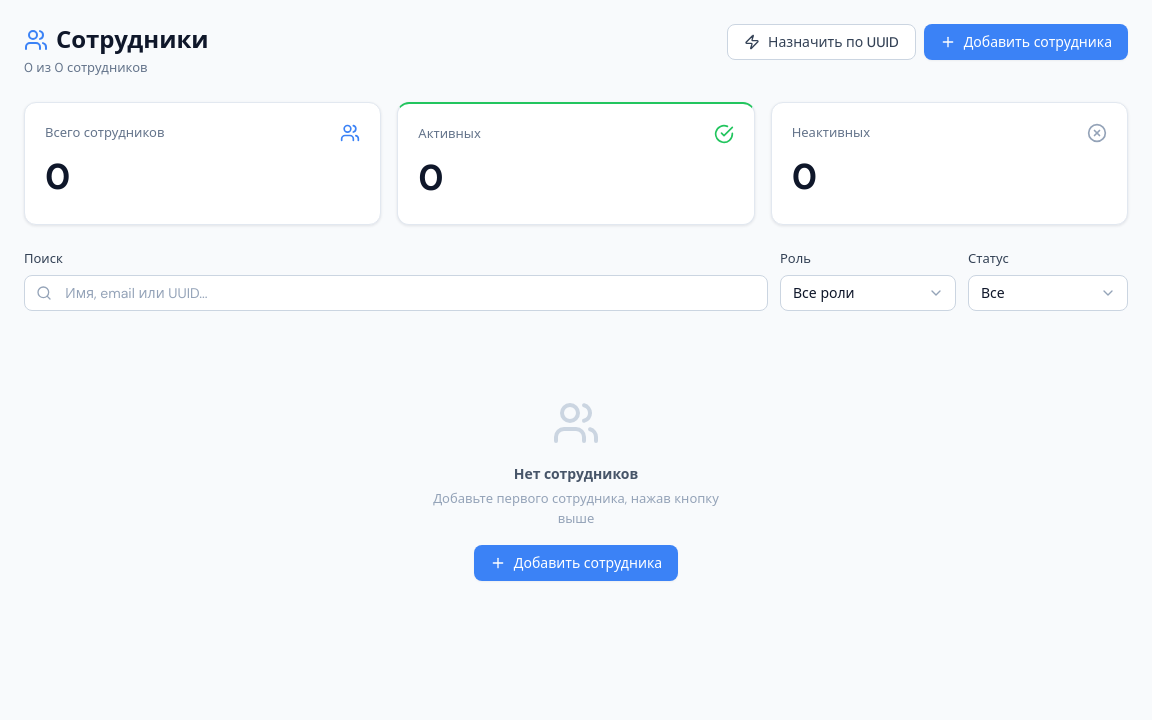
Scenario: EmployeesPage › closes add employee modal on cancel
This screenshot has width=1152, height=720.
Click the button "Добавить сотрудника" in the row of "Сотрудники": (1026,42) [924, 24, 1128, 60]
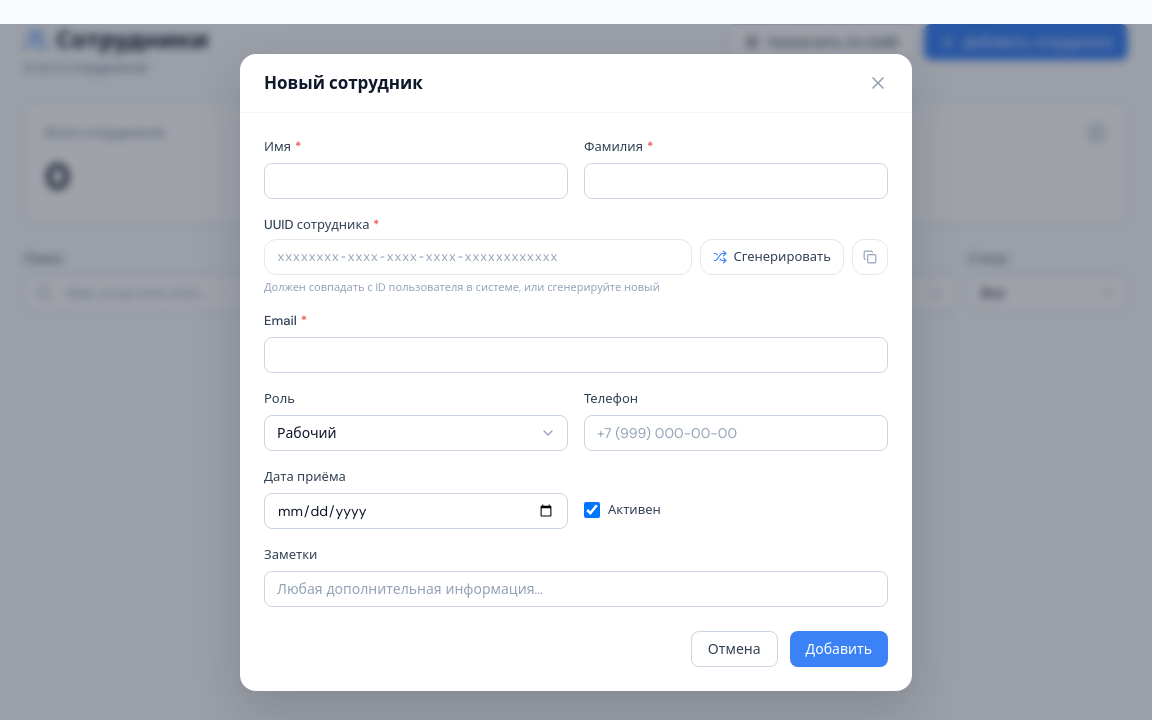
Now the heading "Новый сотрудник" is shown, box [264, 70, 423, 96]
Click the button "Отмена": (734,648) [691, 630, 778, 666]
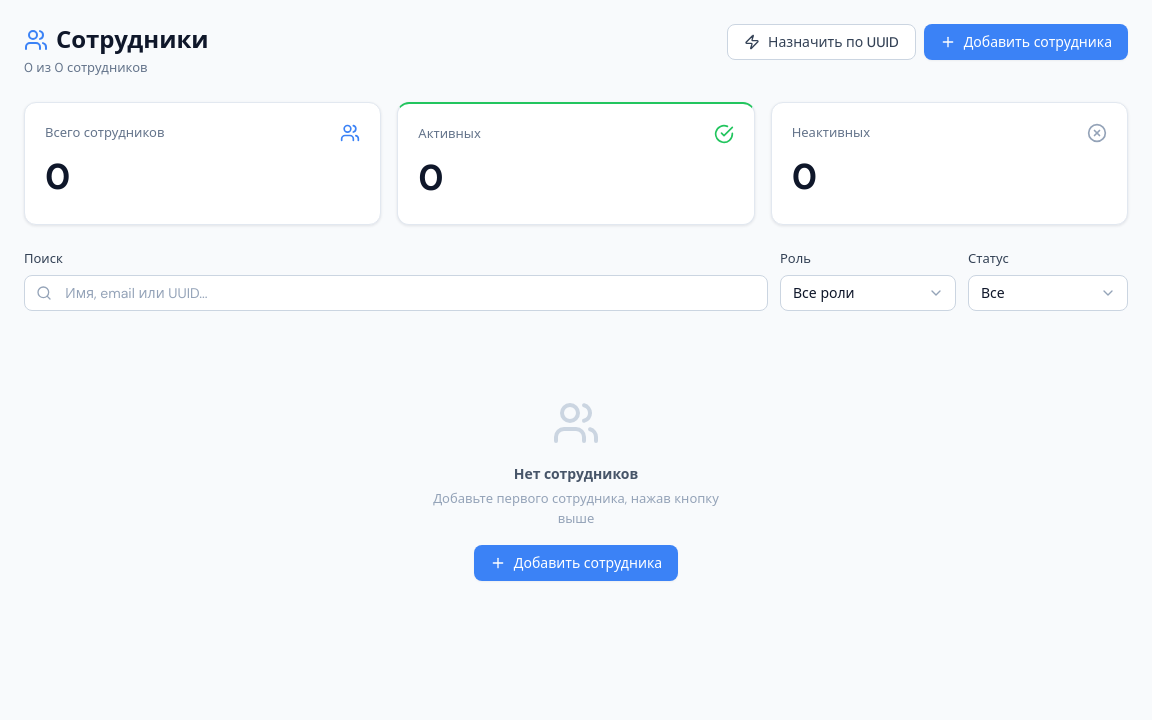
Now the heading "Новый сотрудник" is gone
